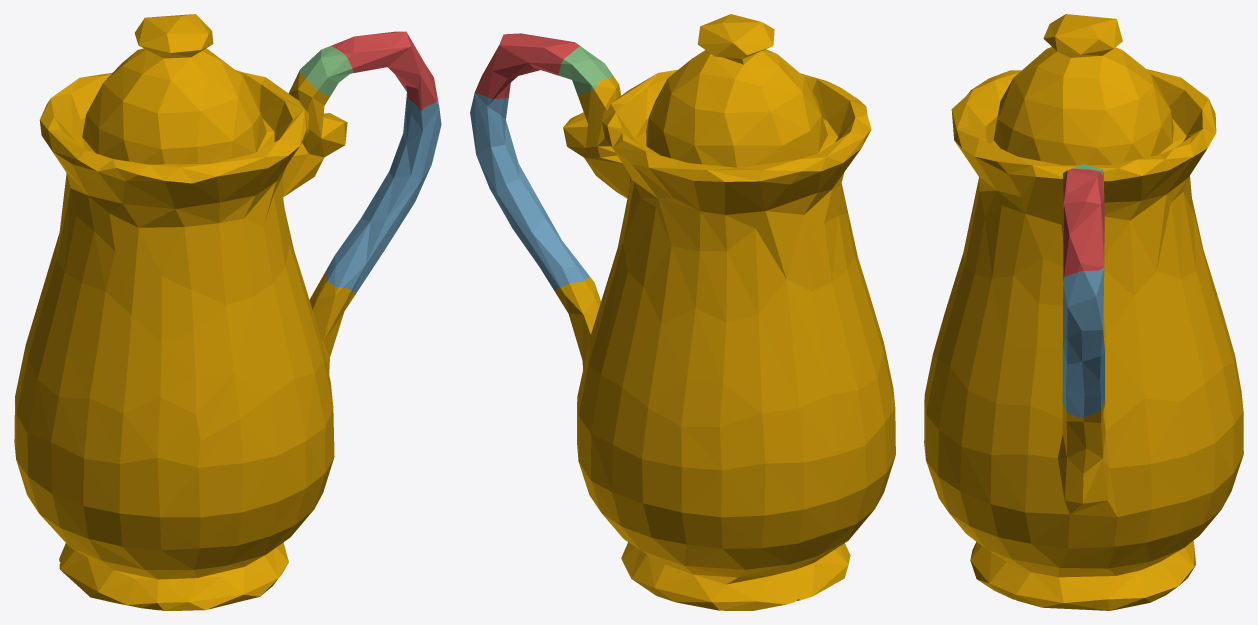
File: fractured_39_4pcs.glb
3 renders of one model, left to right at view 1: azimuth 30°, elevation 25°; view 2: azimuth 150°, elevation 25°; view 3: azimuth 270°, elevation 25°, orthographic.
Parts seen in each view (by area): view 1: piece_0.obj, piece_2.obj, piece_1.obj, piece_3.obj; view 2: piece_0.obj, piece_2.obj, piece_1.obj, piece_3.obj; view 3: piece_0.obj, piece_2.obj, piece_1.obj.
Boxes of the visible parts, x1,y1,x2,y2 form: piece_0.obj: (14,14,355,610); piece_2.obj: (325,86,441,293); piece_1.obj: (331,31,437,110); piece_3.obj: (298,45,353,96); piece_0.obj: (555,14,895,610); piece_2.obj: (470,92,589,291); piece_1.obj: (475,33,580,99); piece_3.obj: (558,46,613,93); piece_0.obj: (924,14,1243,610); piece_2.obj: (1062,268,1104,417); piece_1.obj: (1063,168,1104,276).
Size of the model in its own units: 0.7666 by 1 by 0.5311.
